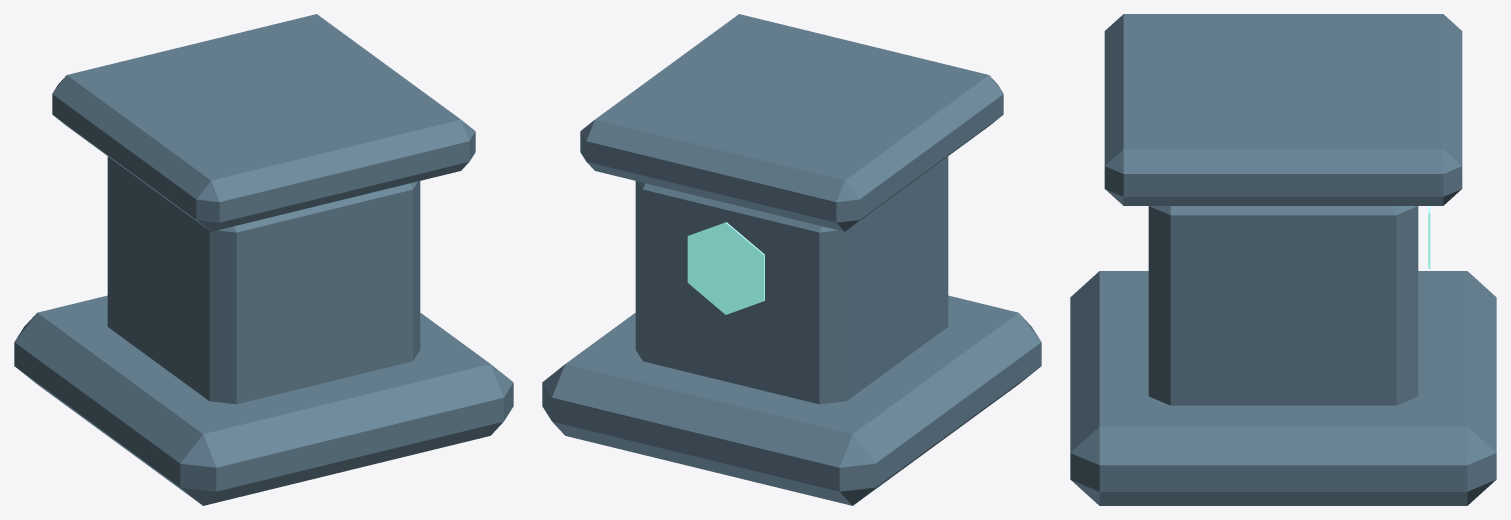
Rendered from totem_dominio.glb.
The picture shows the model from 3 angles, left to right: view 1: azimuth 30°, elevation 25°; view 2: azimuth 150°, elevation 25°; view 3: azimuth 270°, elevation 25°; orthographic projection. The views are drawn at different scales.
Parts seen in each view (by area): view 1: neve_totem_dominio; view 2: neve_totem_dominio; view 3: neve_totem_dominio.
Boxes of the visible parts, <box> form: neve_totem_dominio: <box>14,14,513,505</box>; neve_totem_dominio: <box>542,14,1041,505</box>; neve_totem_dominio: <box>1070,14,1496,505</box>.
Bounding box in the file's own units: 0.68 × 0.61 × 0.68.
